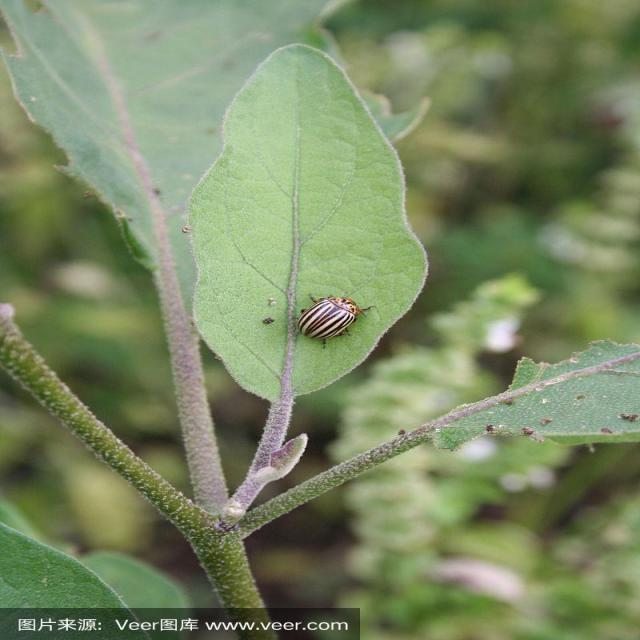ShuCaiHuaBanChong-Grown-: (286, 289, 396, 361)
